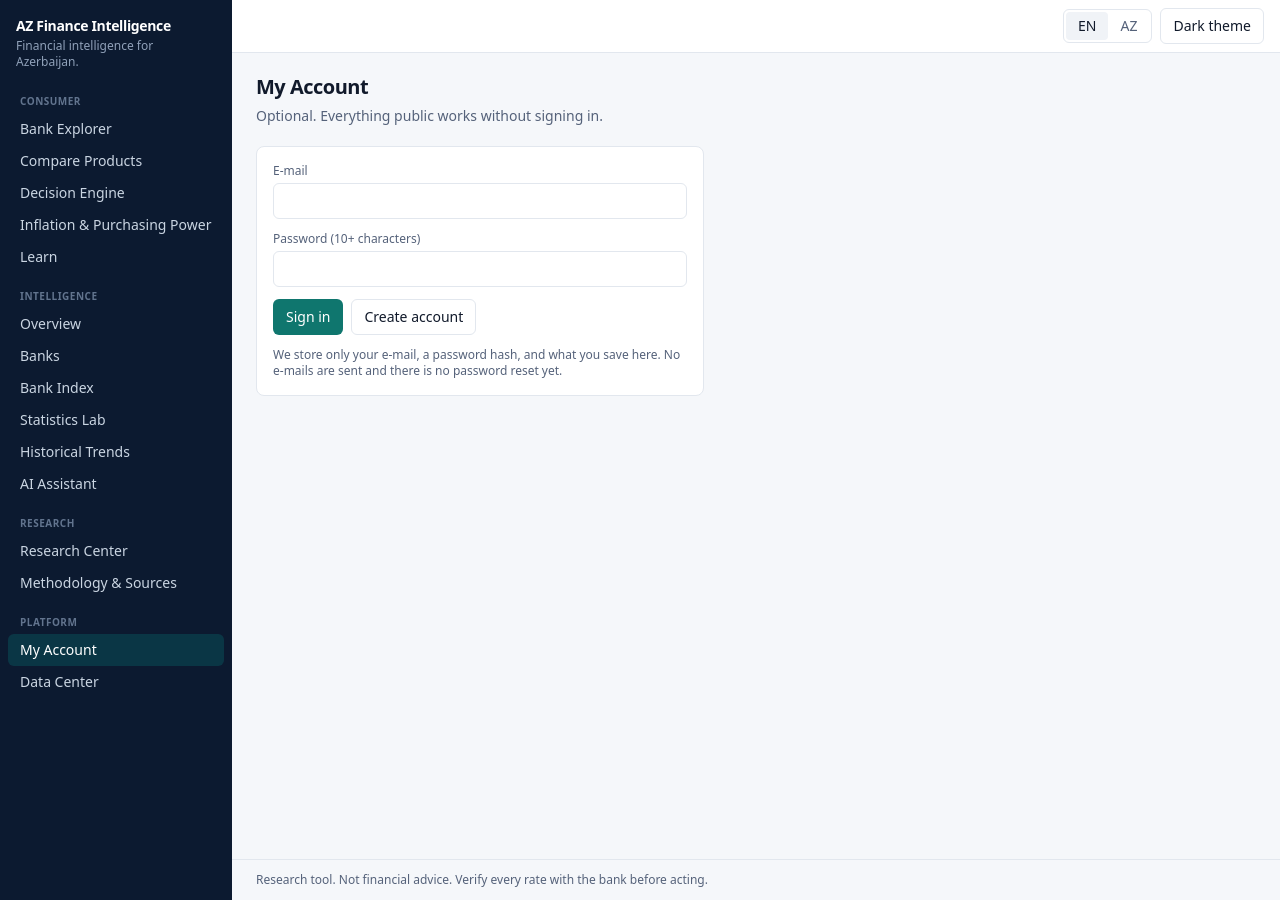
Test: application flows › signs in and shows saved items and notifications
Step 1. Type "a@b.az" into the field labelled "E-mail" → {"x": 480, "y": 201}, box [273,183,687,219]
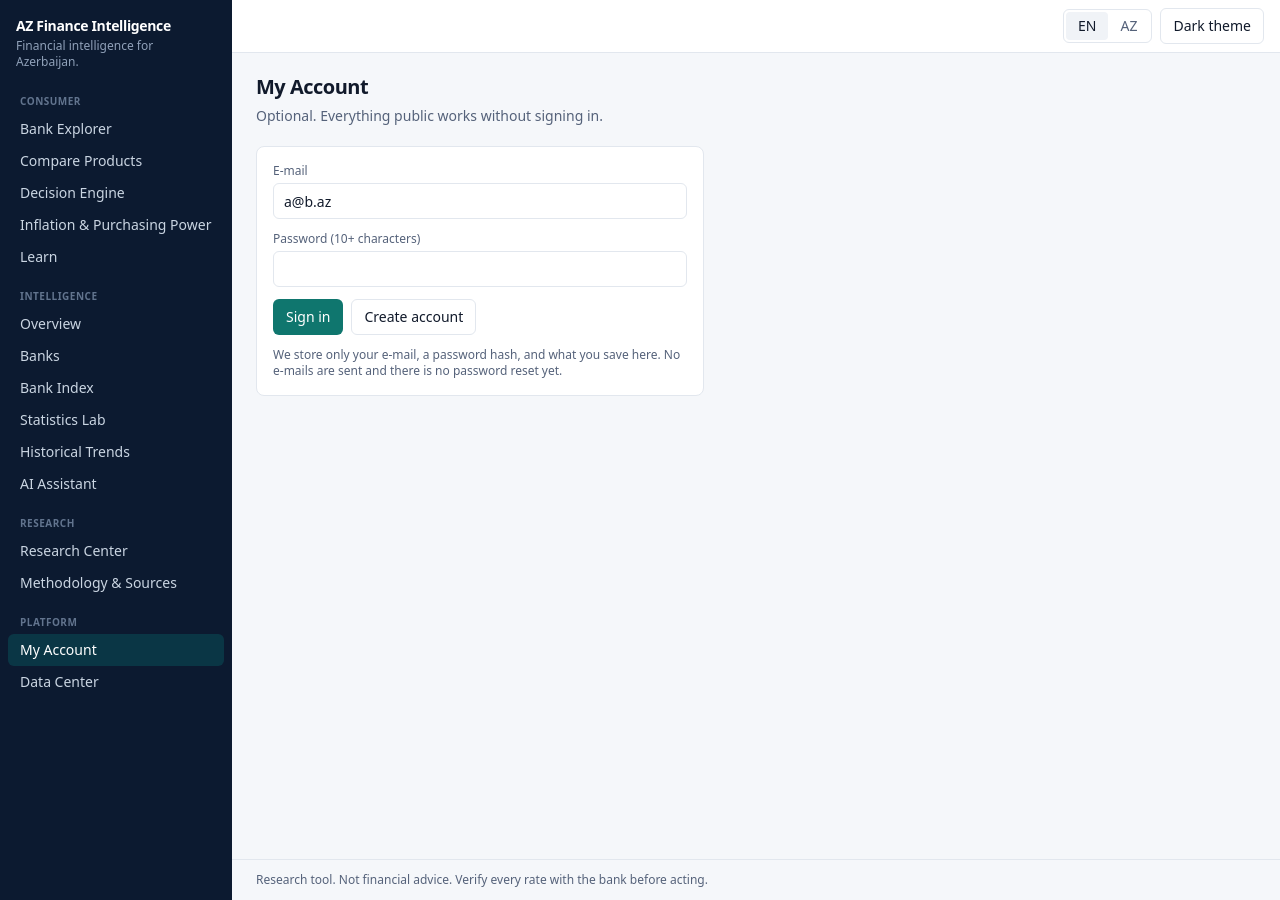
Step 2. Type "a-long-password" into the password field labelled "Password (10+ characters)" → {"x": 480, "y": 269}, box [273,251,687,287]
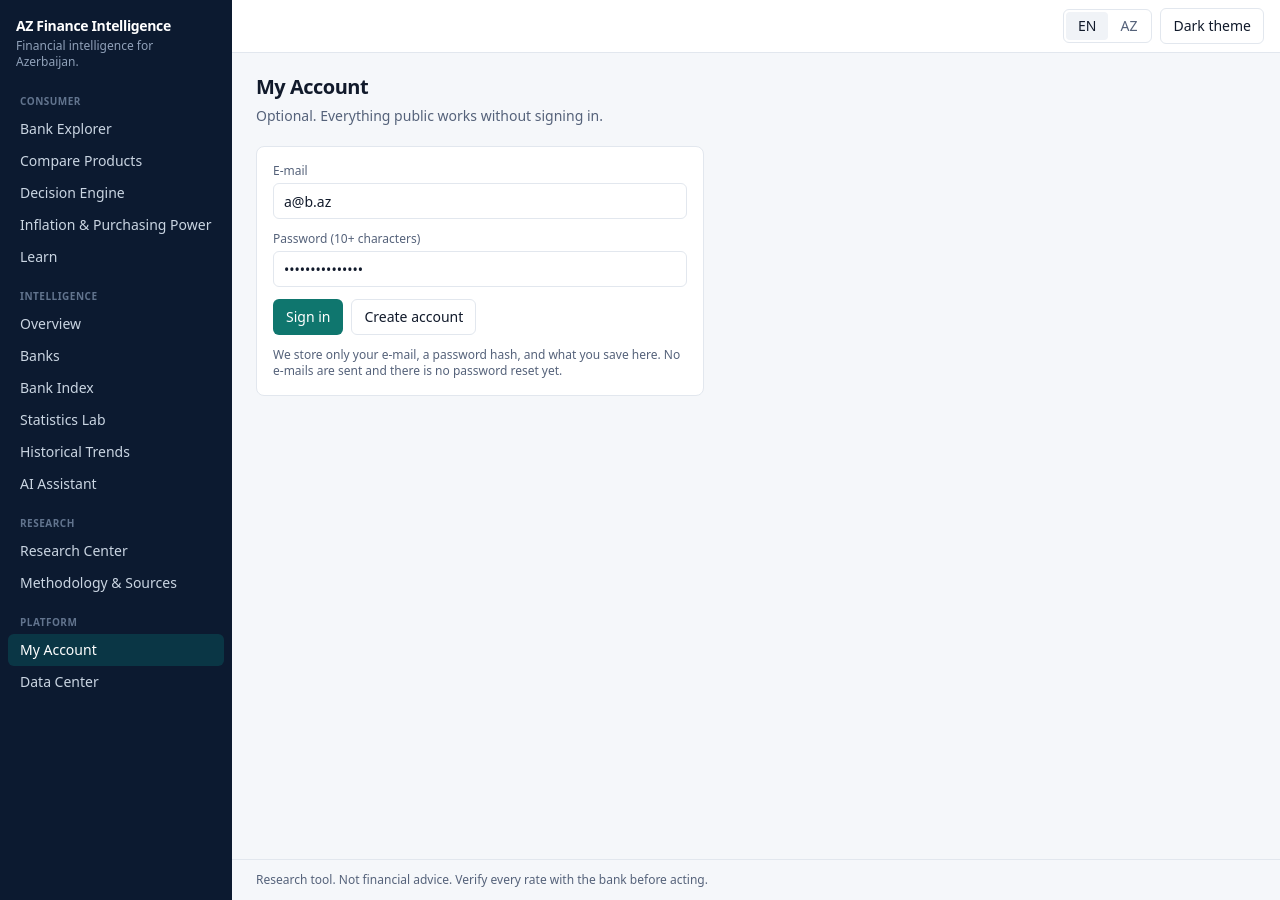
Step 3. Click the button "Sign in" → {"x": 308, "y": 317}, box [273,299,344,335]
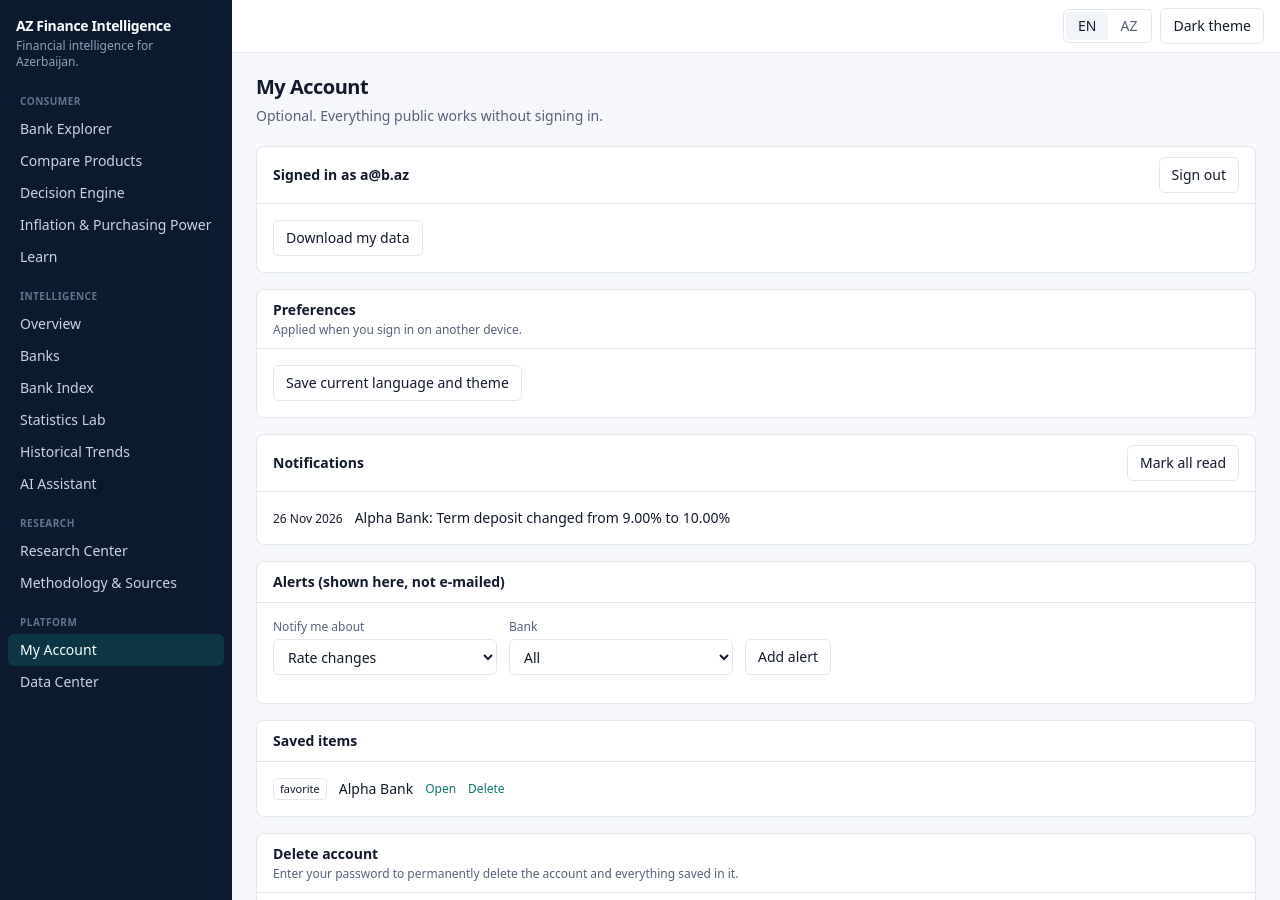
Expected: the list item "changed from 9.00% to 10.00%" is shown, [355,508,730,527]
Expected: the text "Alpha Bank" is shown, [339,779,413,799]
